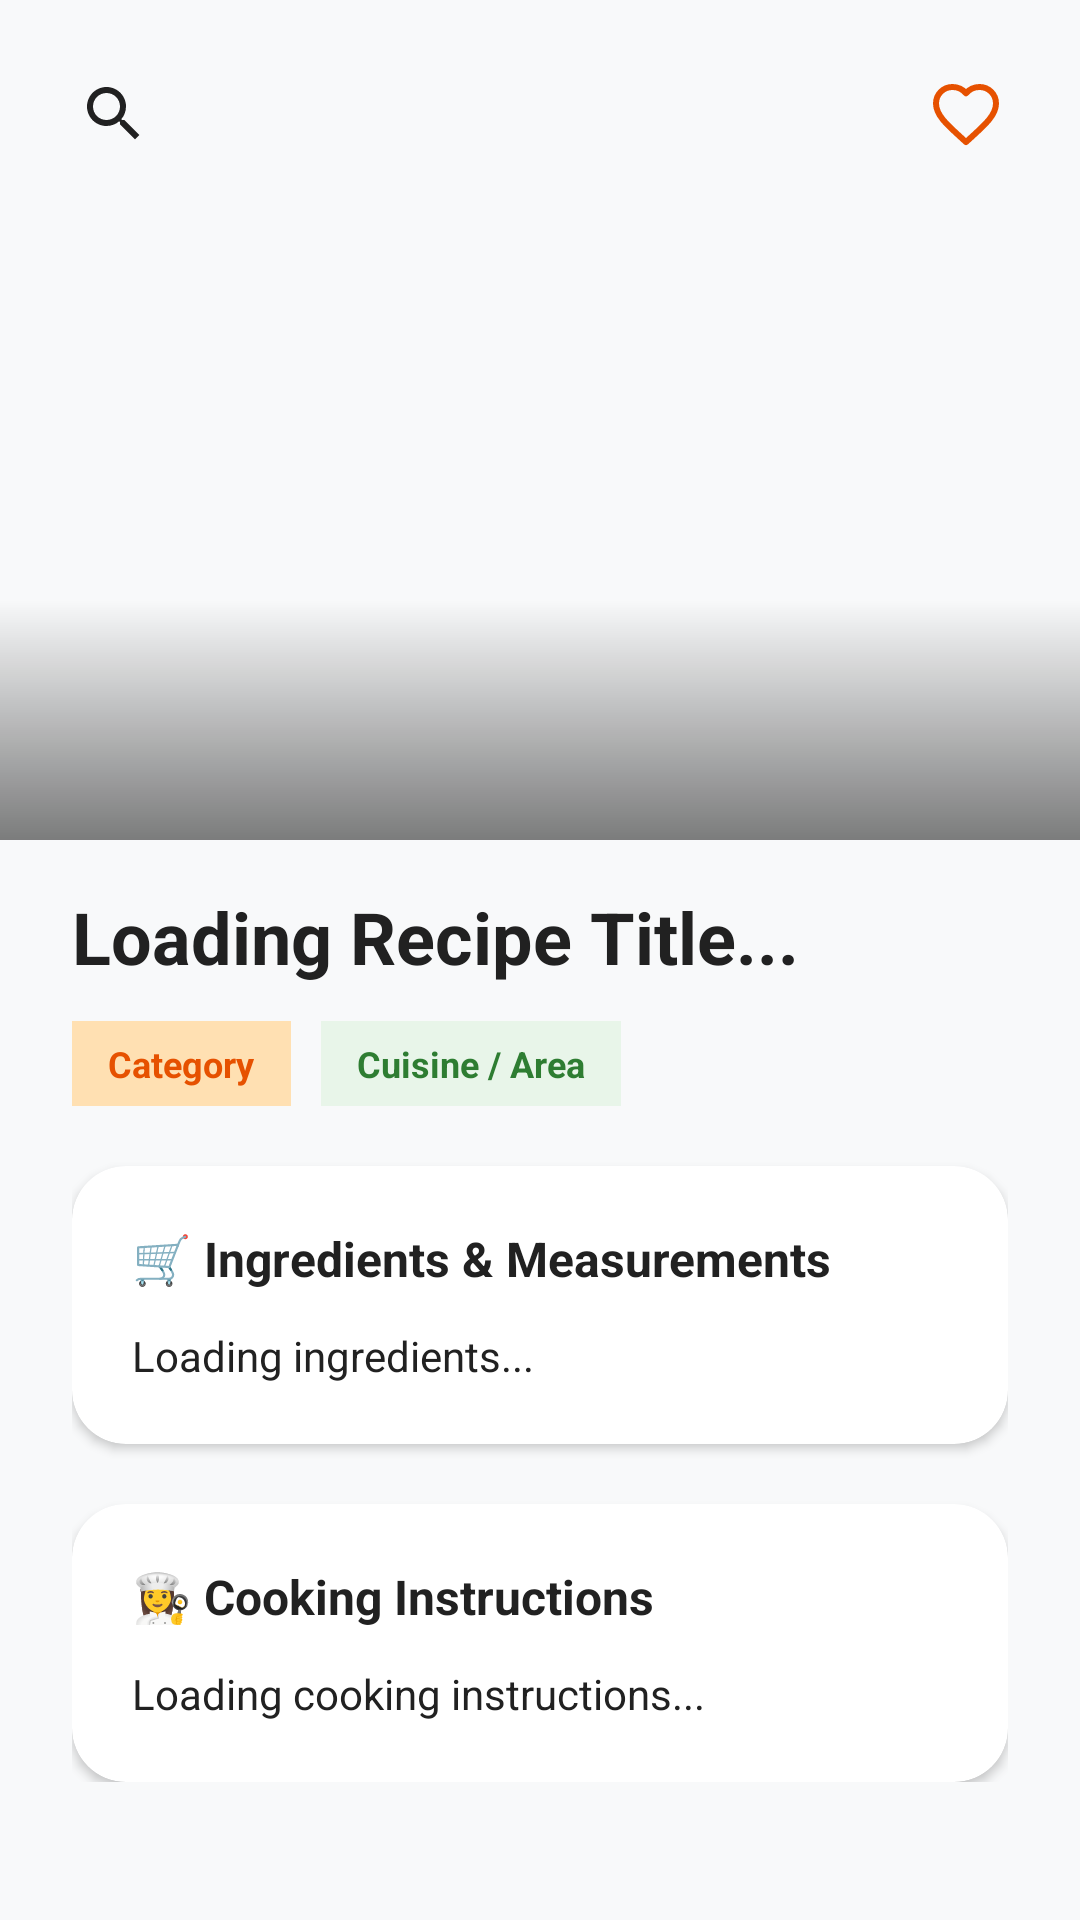

Screen size 1080w x 1920h. Icon name, then its center in pixels as (x=x, y=y):
Favorite: (x=966, y=114)
